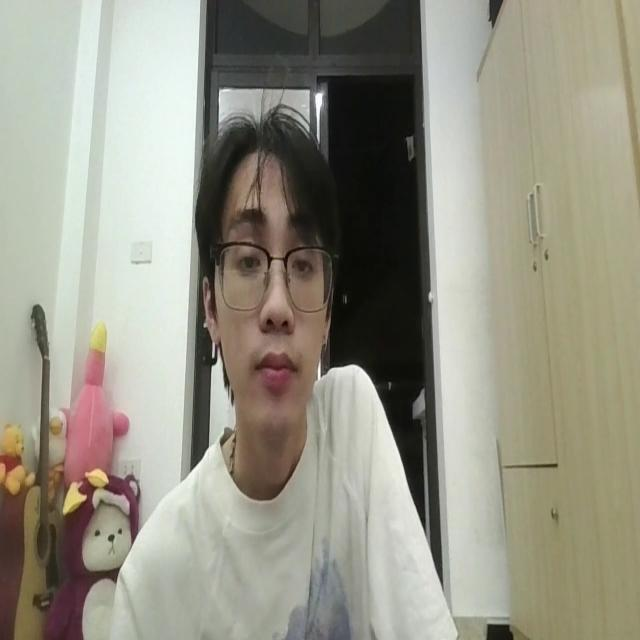student: (111, 104, 463, 640)
